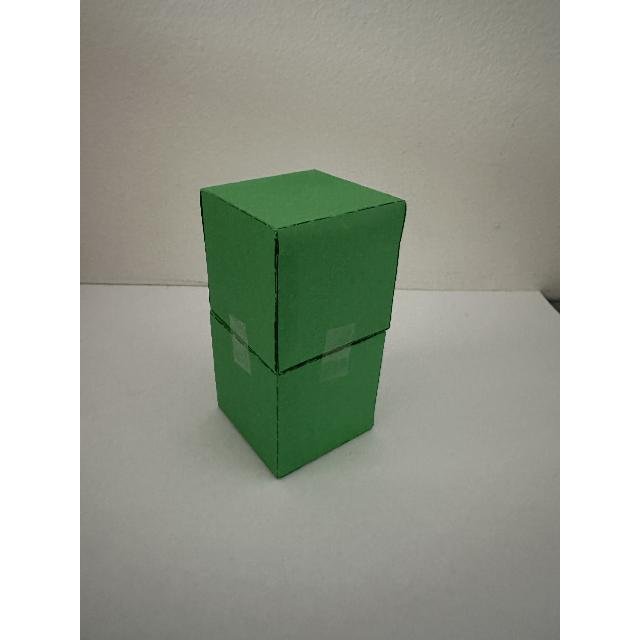green_cube: (174, 159, 432, 477)
